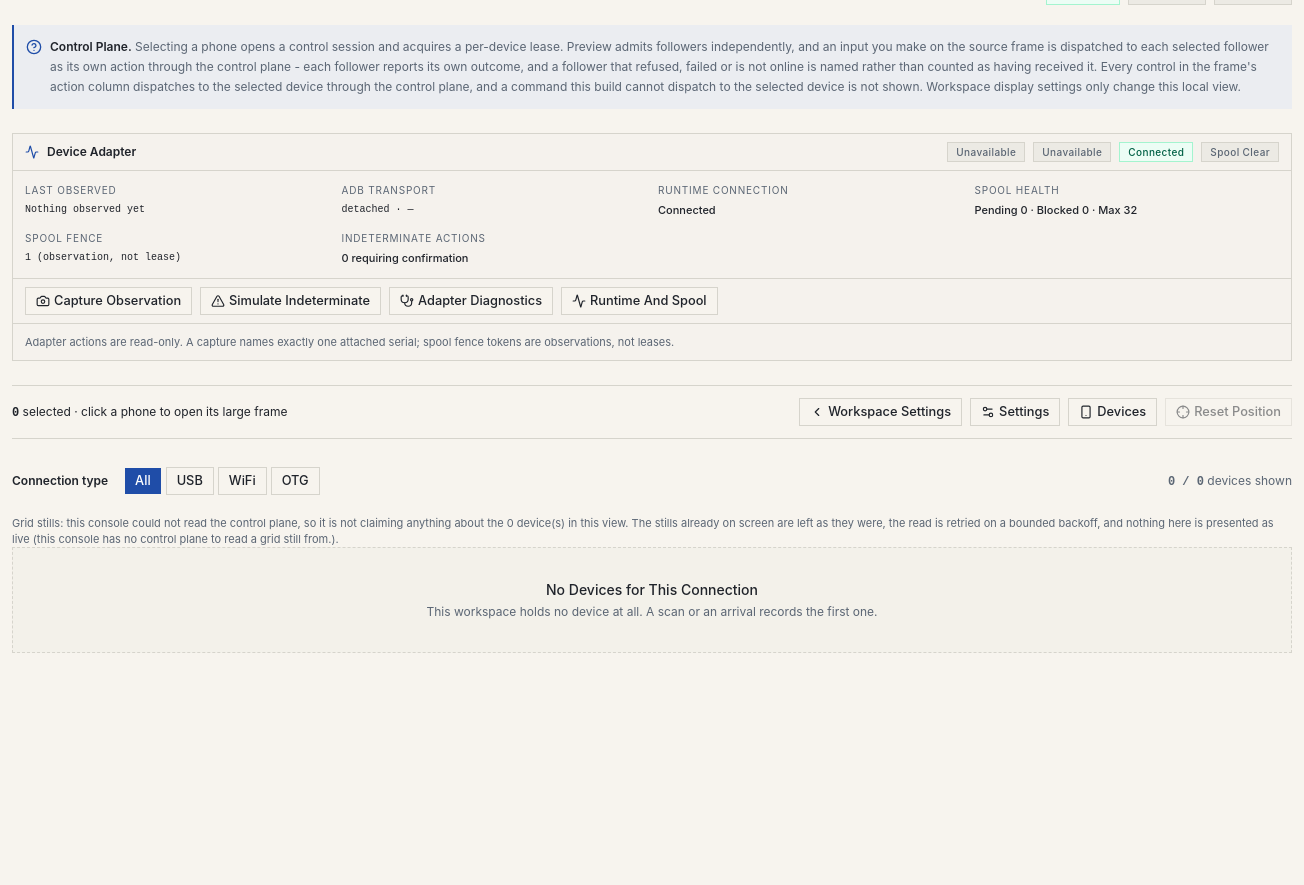
Test case: ControlPage connection filters › keeps Workspace Settings in the toolbar when there are no devices
The image size is (1304, 885).
Expected: the text "No Devices for This Connection" is shown, [546, 581, 758, 598]
Click the button with aria-label "Open Workspace Settings": point(881, 412) [799, 398, 962, 426]
(page scrolled)
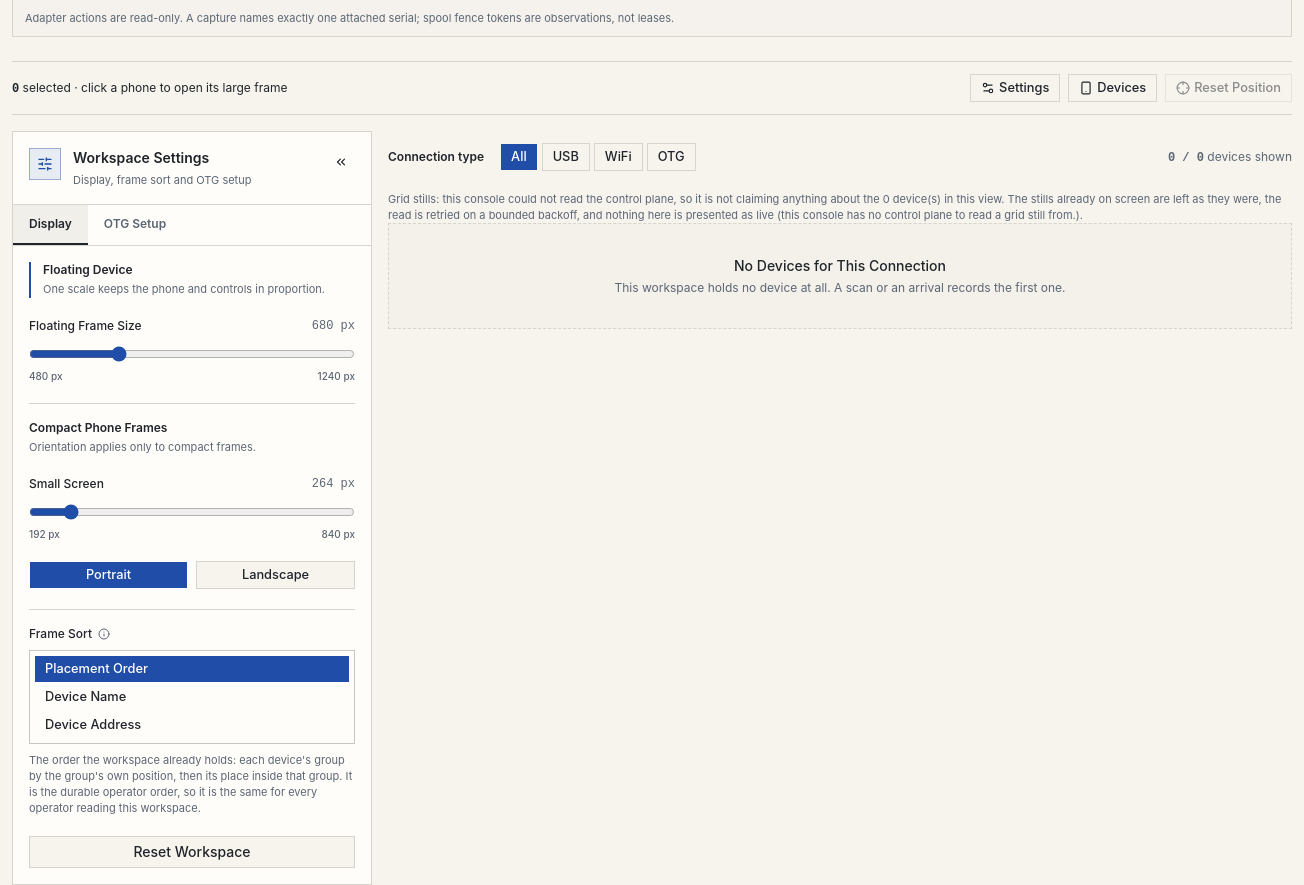
Now the element "Workspace Settings" is shown, box [12, 131, 372, 884]
